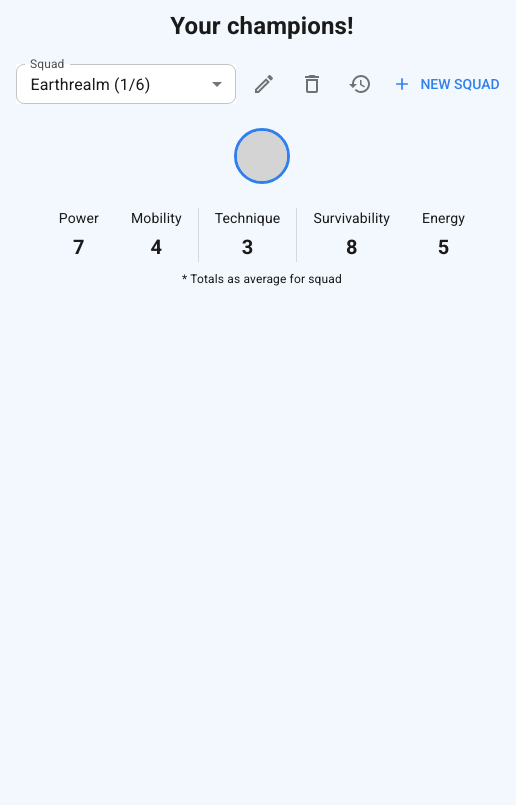
Test case: SquadHeader › puts the member back and explains why when the server refuses
Click the button named "Remove Scorpion" at (262, 156), box x1=234 y1=128 x2=290 y2=184
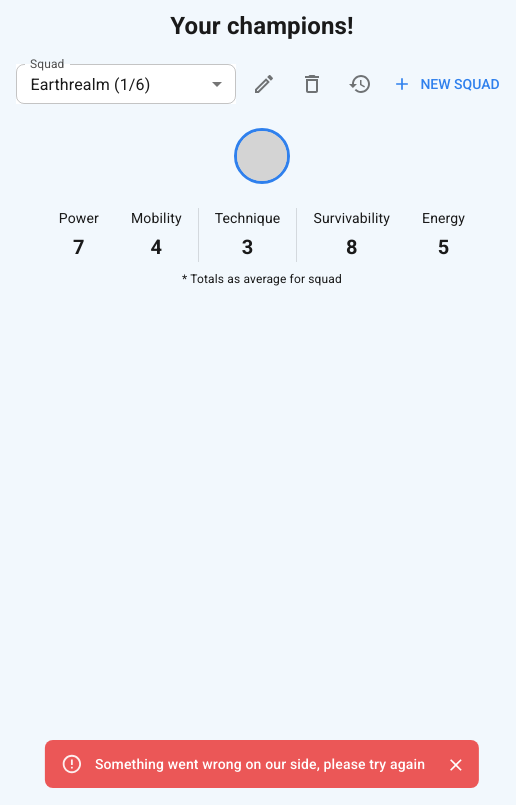
expect the message reads "Something went wrong on our side, please try again": met, box x1=95 y1=756 x2=425 y2=772
